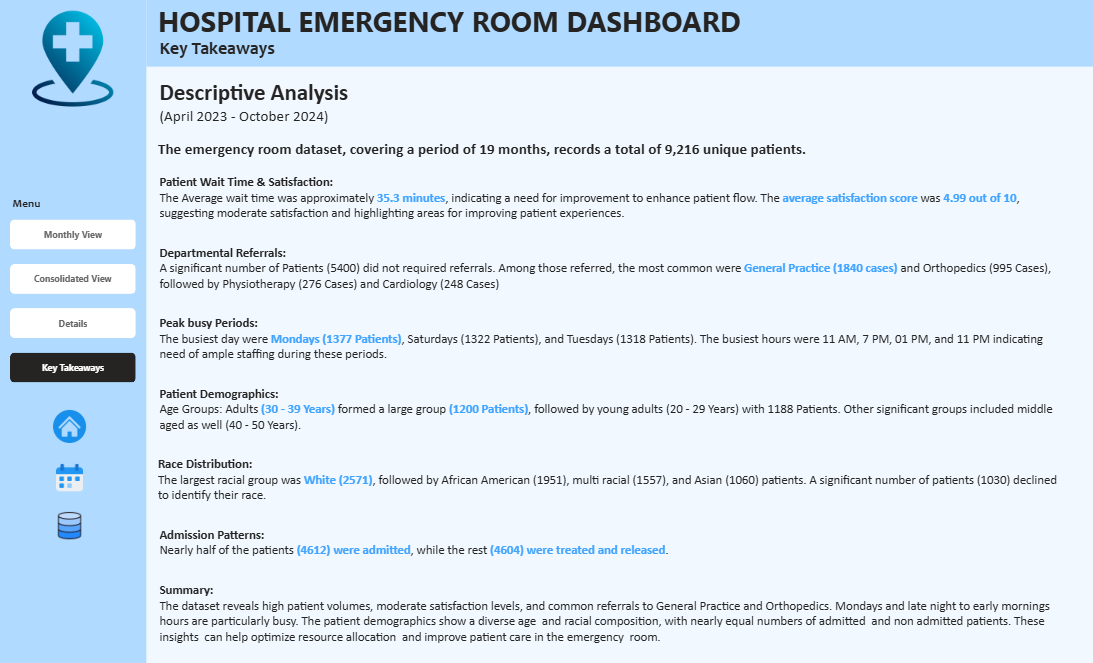

This screenshot's page, from the dashboard's own definition file:
{"tool":"powerbi","page":{"name":"Key Takeaways","canvas":[2300,1400],"ordinal":3},"visuals":[{"type":"shape","box":[0,0,311.3,1399.9],"z":0},{"type":"shape","box":[311.3,0,1989.1,142.1],"z":1000},{"type":"textbox","box":[332.2,0,1280.5,90],"z":2000},{"type":"image","box":[46.9,17.9,218.9,212.2],"z":3000},{"type":"textbox","box":[333.7,76.1,411.3,59],"z":4000},{"type":"textbox","box":[333.7,161.4,707.8,113.3],"z":5000},{"type":"textbox","box":[332.2,290.2,1930.8,59],"z":6000},{"type":"textbox","box":[333.4,362.4,1905.4,116],"z":7000},{"type":"textbox","box":[333.4,510.3,1905.4,116],"z":8000},{"type":"textbox","box":[333.4,658.2,1905.4,116],"z":9000},{"type":"textbox","box":[333.4,806.1,1905.4,116],"z":10000},{"type":"textbox","box":[331.8,954,1905.4,116],"z":11000},{"type":"textbox","box":[333.4,1101.9,1905.4,85.4],"z":12000},{"type":"textbox","box":[333.4,1219.3,1905.4,149.8],"z":13000},{"type":"pageNavigator","box":[24.2,462.3,264.1,343.1],"z":14000},{"type":"textbox","box":[24.2,409.1,99.9,48.3],"z":15000},{"type":"image","box":[110.1,854.1,79.5,87.7],"z":19000},{"type":"image","box":[116.2,966.2,67.3,75.4],"z":20000},{"type":"image","box":[116.2,1068.1,67.3,75.4],"z":21000}]}

Visuals, with their boxes in screenshot pixels (x1, y1, x2, y2), scaled from the page's 2300x1400 canvas onto the 1093x663 screenshot:
shape: (0,0,148,662)
shape: (148,0,1092,67)
textbox: (158,0,766,43)
image: (22,8,126,109)
textbox: (159,36,354,64)
textbox: (159,76,495,130)
textbox: (158,137,1075,165)
textbox: (158,172,1064,227)
textbox: (158,242,1064,297)
textbox: (158,312,1064,367)
textbox: (158,382,1064,437)
textbox: (158,452,1063,507)
textbox: (158,522,1064,562)
textbox: (158,577,1064,648)
pageNavigator: (12,219,137,381)
textbox: (12,194,59,217)
image: (52,404,90,446)
image: (55,458,87,493)
image: (55,506,87,542)
